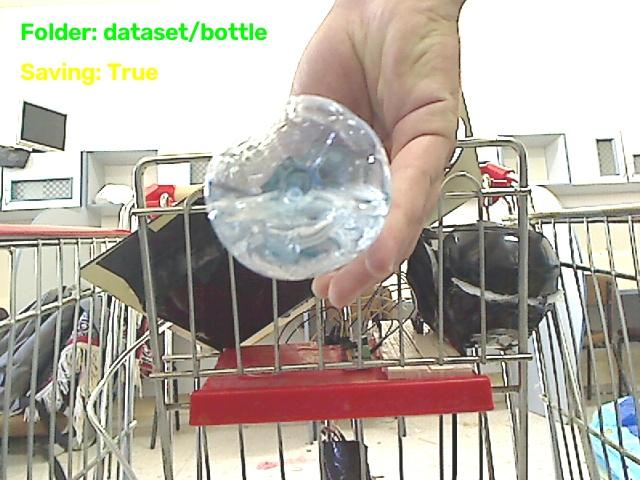can: (203, 100, 391, 281)
